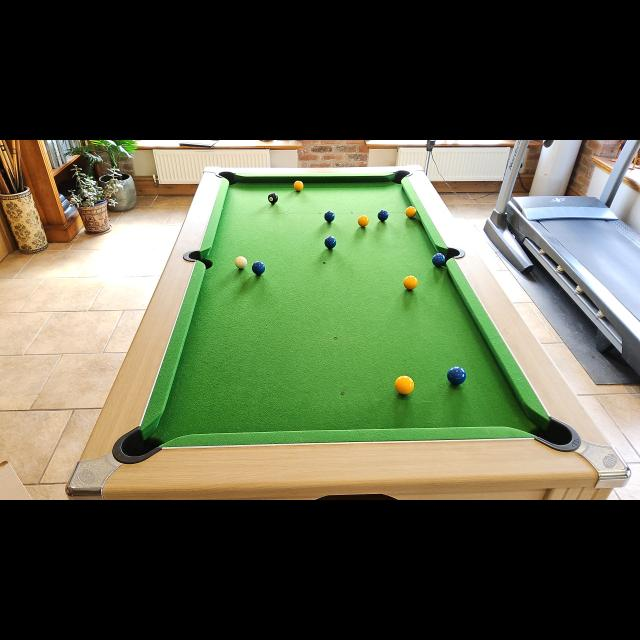Ball: (448, 366, 466, 386), (396, 376, 414, 396), (402, 276, 418, 290), (433, 253, 445, 267), (252, 261, 264, 275), (324, 236, 336, 250), (235, 256, 247, 270), (357, 215, 369, 227), (294, 180, 304, 192), (406, 206, 416, 218), (268, 193, 278, 204), (325, 212, 335, 222), (378, 211, 388, 221)
